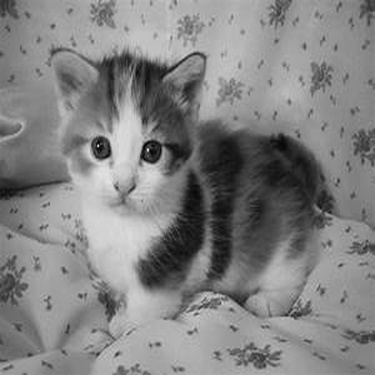cat: (48, 42, 327, 337)
